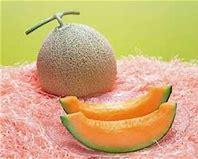Melon Ripe: (37, 12, 117, 97), (59, 101, 176, 152), (61, 86, 172, 119)
